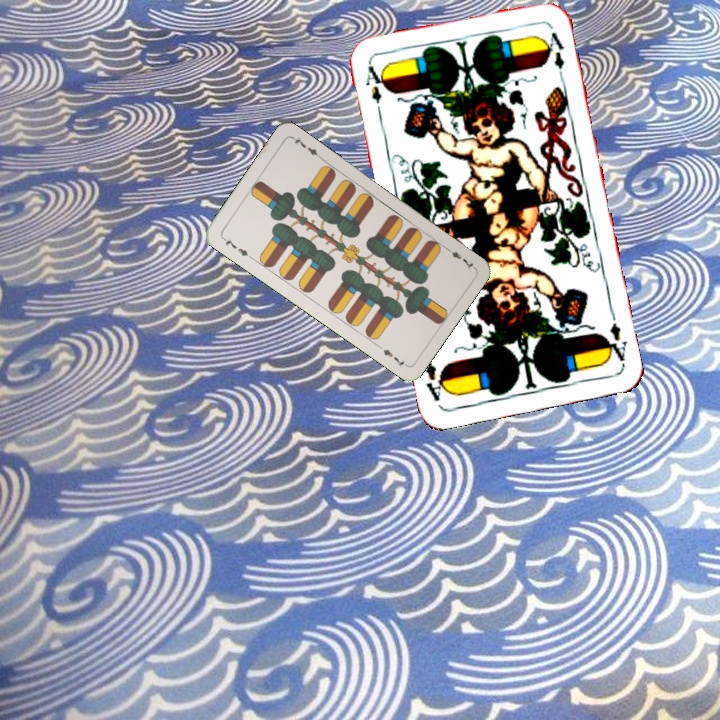E7: (441, 243, 477, 272), (218, 233, 254, 261)
EA: (600, 307, 630, 366), (361, 61, 387, 106)
